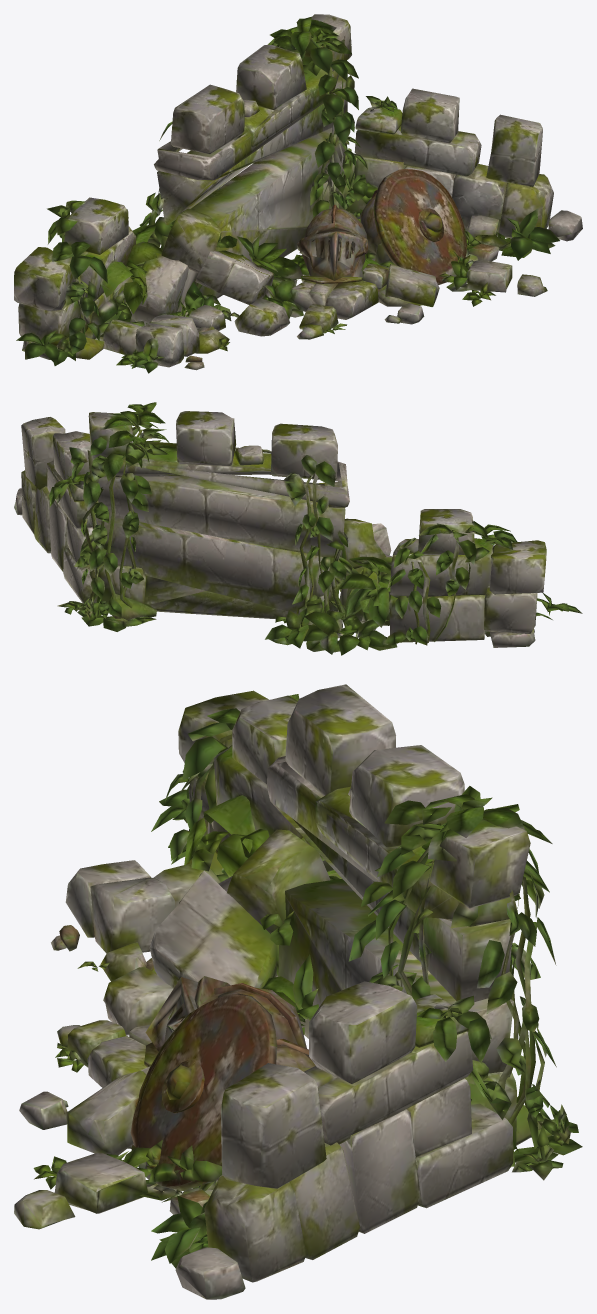
File: landmark_wall_ruin.glb
3 views of the same model, one above another, from view 1: azimuth 30°, elevation 25°; view 2: azimuth 150°, elevation 25°; view 3: azimuth 270°, elevation 25° (orthographic). The views are drawn at different scales.
Bounding box in the file's own units: 0.9526 × 0.3267 × 0.4834.
1 material, 1 textured.
